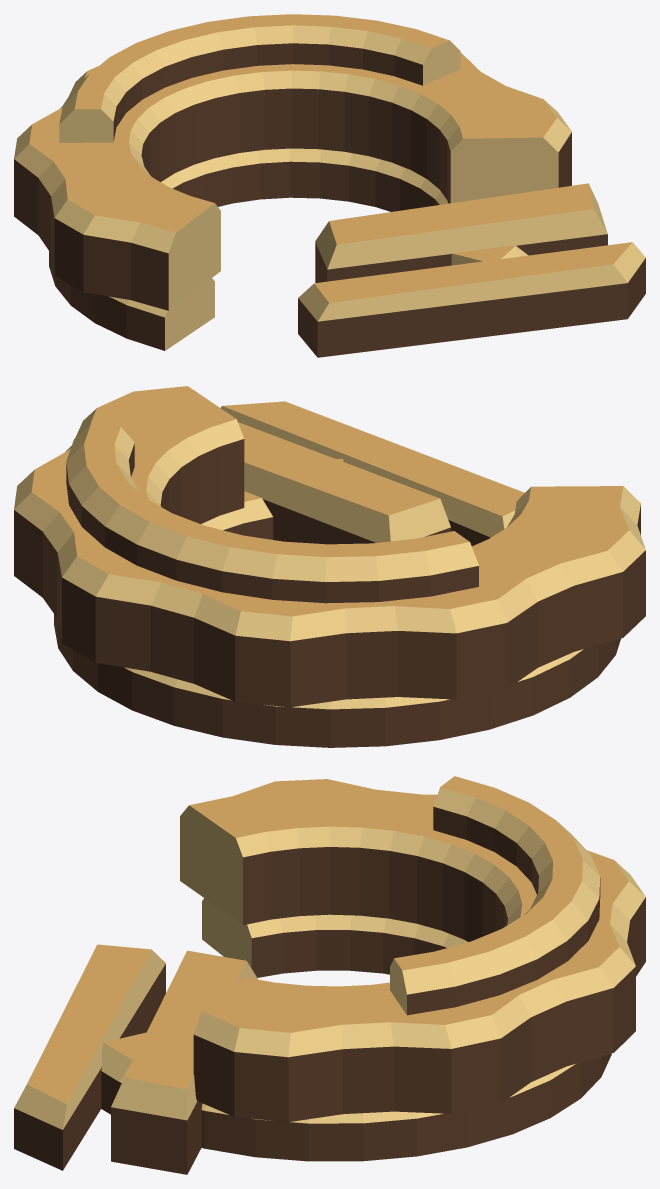
File: salvage_deposit.glb
The picture shows the model from 3 angles, top to bottom: view 1: azimuth 30°, elevation 25°; view 2: azimuth 150°, elevation 25°; view 3: azimuth 270°, elevation 25°; orthographic projection. The views are drawn at different scales.
Parts seen in each view (by area): view 1: Fractured flywheel and cut stock; view 2: Fractured flywheel and cut stock; view 3: Fractured flywheel and cut stock.
Boxes of the visible parts, <box> form: Fractured flywheel and cut stock: <box>14,14,645,357</box>; Fractured flywheel and cut stock: <box>14,386,645,747</box>; Fractured flywheel and cut stock: <box>14,776,645,1174</box>.
Size of the model in its own units: 0.8059 by 0.245 by 0.8019.
